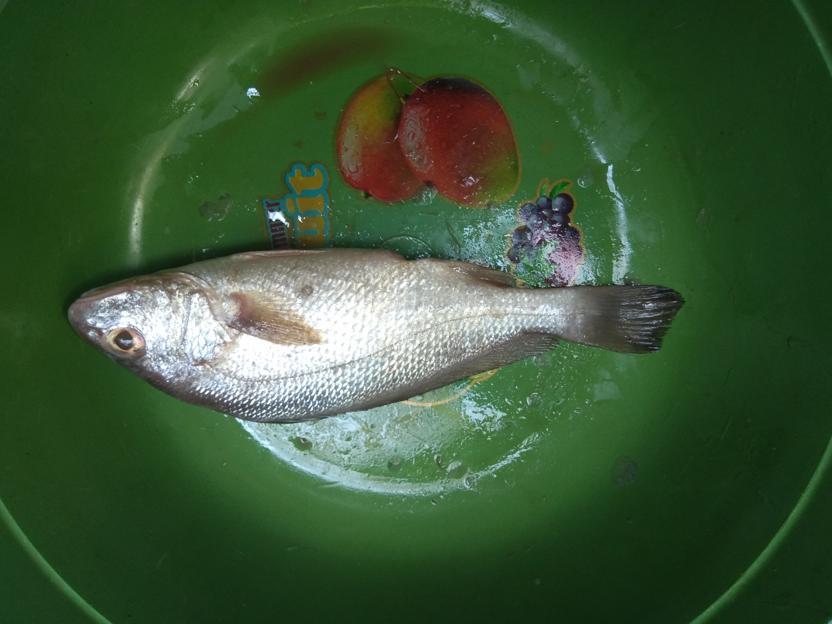Fish head: (67, 273, 227, 385)
Fish tail: (565, 284, 685, 357)
